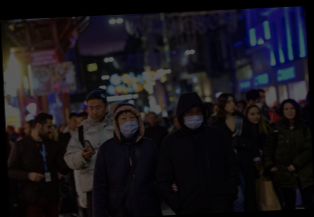with_mask: (117, 112, 140, 136), (182, 106, 204, 129)
without_mask: (86, 102, 105, 120), (37, 122, 53, 139), (223, 96, 236, 114), (247, 108, 261, 123), (282, 104, 296, 119), (147, 112, 157, 125)
